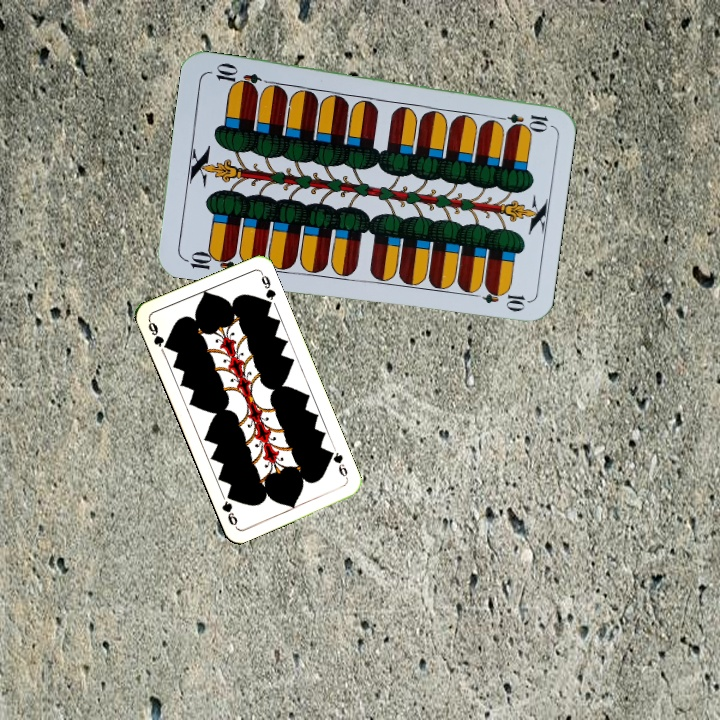E10: (180, 246, 239, 273), (491, 109, 550, 131)
G9: (144, 316, 172, 352), (324, 446, 351, 482)
